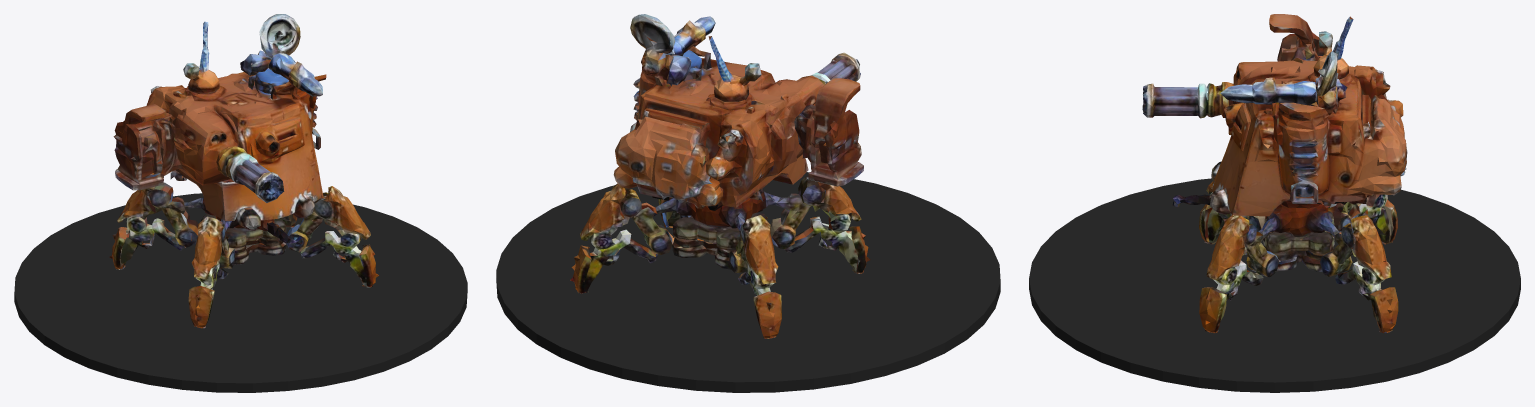
The model's file is onager-dunecrawler.glb.
The picture shows the model from 3 angles, left to right: view 1: azimuth 30°, elevation 25°; view 2: azimuth 150°, elevation 25°; view 3: azimuth 270°, elevation 25°; orthographic projection. The views are drawn at different scales.
Parts seen in each view (by area): view 1: base, figure; view 2: base, figure; view 3: base, figure.
Part boxes in pixels (x1,y1,x2,y2): base: (14, 193, 467, 392); figure: (109, 14, 378, 328); base: (496, 172, 1000, 392); figure: (570, 14, 870, 338); base: (1029, 178, 1520, 392); figure: (1142, 14, 1407, 333).
Size of the model in its own units: 5.12 by 3.12 by 5.12.
Materials: 2 (1 with a texture image).
